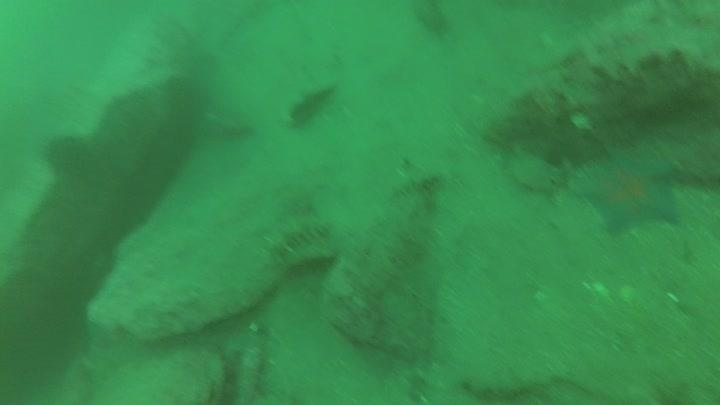echinus: (42, 131, 94, 179)
holothurian: (263, 212, 334, 263), (385, 169, 446, 202)
starfish: (571, 141, 685, 237)
